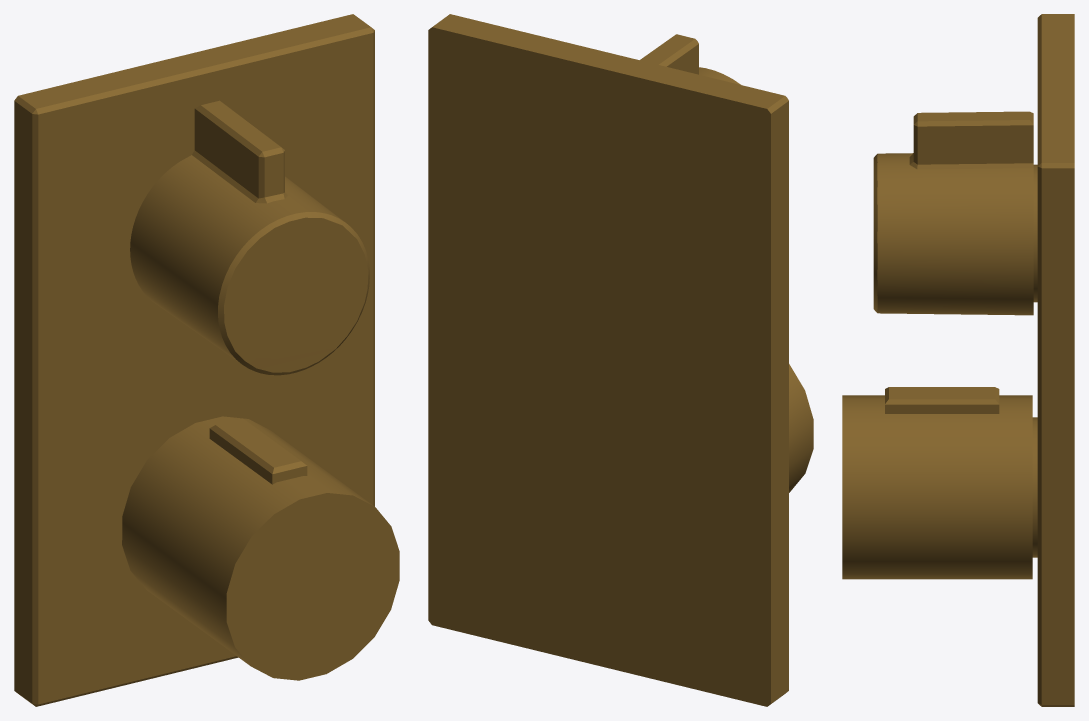
The picture shows the model from 3 angles, left to right: view 1: azimuth 30°, elevation 25°; view 2: azimuth 150°, elevation 25°; view 3: azimuth 270°, elevation 25°; orthographic projection. The views are drawn at different scales.
Visible parts, largest first — view 1: L_755c48c0_292c_4114_ab78_be08f5bda6cb_I3, L_fb32d448_c480_47a2_ac0a_bbca4ca6d439_I6, L_d5e6d2bc_0a0b_437f_b6e4_acb8e121776f_I5, L_318b4798_47d0_4ca1_ab17_fd60b03ba60b_I1; view 2: L_755c48c0_292c_4114_ab78_be08f5bda6cb_I3, L_fb32d448_c480_47a2_ac0a_bbca4ca6d439_I6, L_d5e6d2bc_0a0b_437f_b6e4_acb8e121776f_I5; view 3: L_fb32d448_c480_47a2_ac0a_bbca4ca6d439_I6, L_d5e6d2bc_0a0b_437f_b6e4_acb8e121776f_I5, L_755c48c0_292c_4114_ab78_be08f5bda6cb_I3, L_318b4798_47d0_4ca1_ab17_fd60b03ba60b_I1, L_4ba1177e_4ff5_4e43_a85a_0f0dad230ea2_I2, L_941ab5fb_d405_4643_8e9b_3a85df6b3cd1_I4.
Part boxes in pixels (box(x1,y1,x2,y2)): L_755c48c0_292c_4114_ab78_be08f5bda6cb_I3: box(14, 14, 374, 706); L_fb32d448_c480_47a2_ac0a_bbca4ca6d439_I6: box(122, 416, 399, 680); L_d5e6d2bc_0a0b_437f_b6e4_acb8e121776f_I5: box(130, 100, 369, 375); L_318b4798_47d0_4ca1_ab17_fd60b03ba60b_I1: box(209, 418, 307, 484); L_755c48c0_292c_4114_ab78_be08f5bda6cb_I3: box(428, 14, 788, 706); L_fb32d448_c480_47a2_ac0a_bbca4ca6d439_I6: box(789, 364, 813, 492); L_d5e6d2bc_0a0b_437f_b6e4_acb8e121776f_I5: box(640, 34, 740, 84); L_fb32d448_c480_47a2_ac0a_bbca4ca6d439_I6: box(842, 395, 1032, 579); L_d5e6d2bc_0a0b_437f_b6e4_acb8e121776f_I5: box(873, 111, 1033, 315); L_755c48c0_292c_4114_ab78_be08f5bda6cb_I3: box(1037, 14, 1074, 706); L_318b4798_47d0_4ca1_ab17_fd60b03ba60b_I1: box(885, 387, 999, 413); L_4ba1177e_4ff5_4e43_a85a_0f0dad230ea2_I2: box(1032, 417, 1037, 557); L_941ab5fb_d405_4643_8e9b_3a85df6b3cd1_I4: box(1033, 164, 1037, 302).
Bounding box in the file's own units: 0.09 × 0.15 × 0.058.
